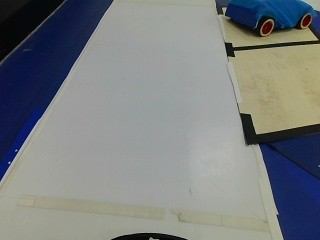car: (217, 0, 318, 46)
